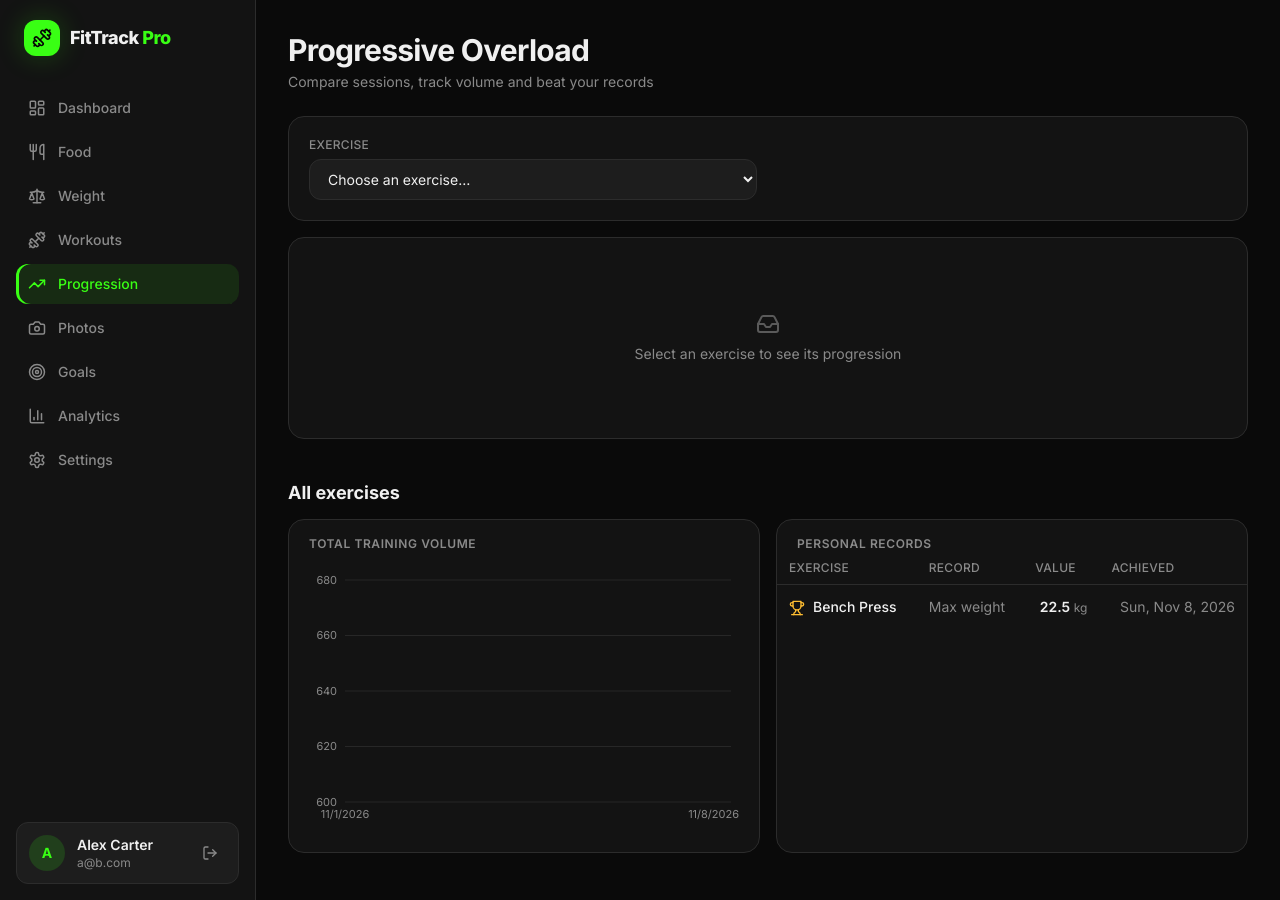
pages render with contract data › progression page loads exercise detail
Expected: the text "Select an exercise to see its progression" is shown, [635,344,901,364]
Select "Bench Press (Chest)" in the dropdown at x=533, y=180, box [309,159,757,200]
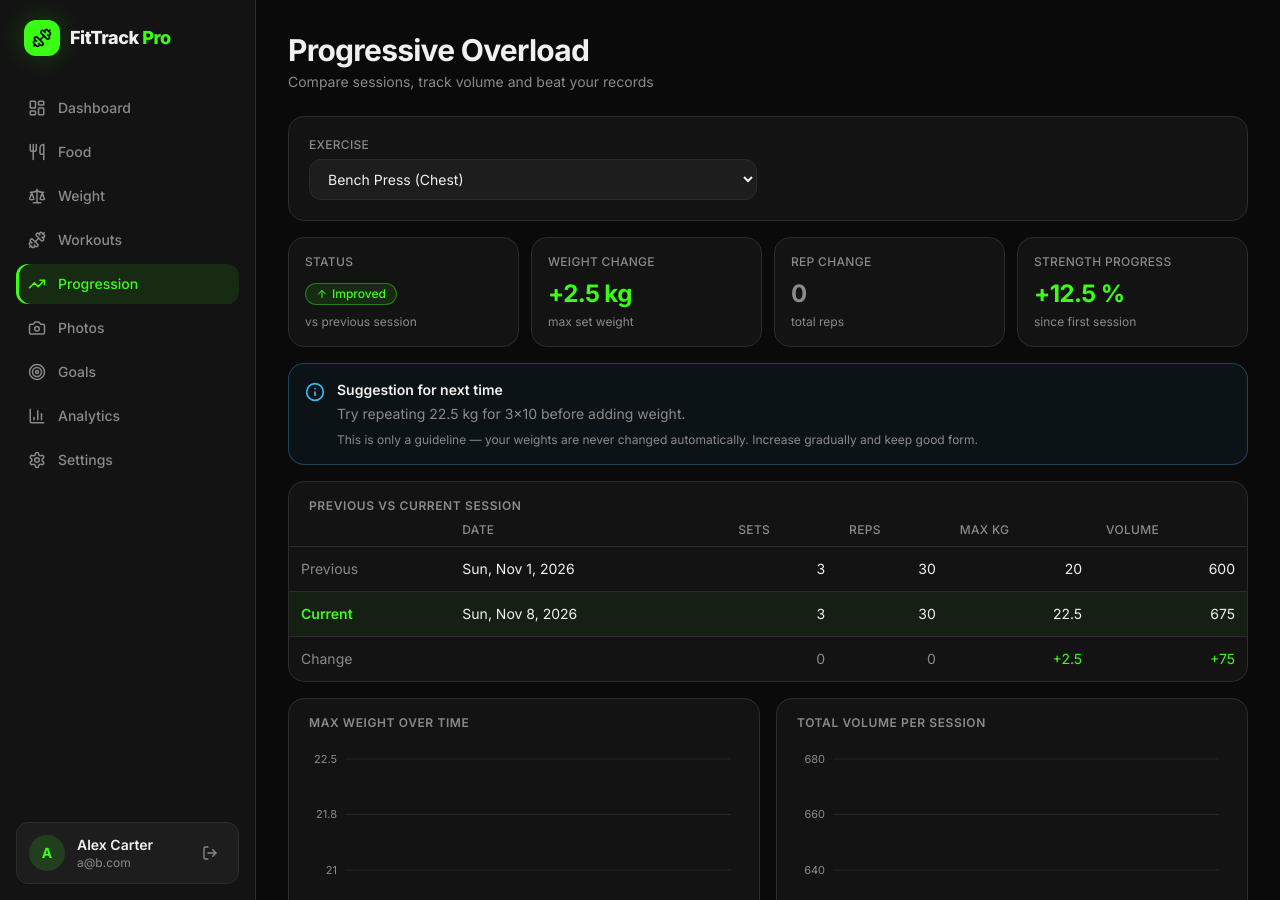
Result: the text "Improved" is shown at [305,283,397,305]
Result: the text "never changed automatically" is shown at [337,432,978,447]
